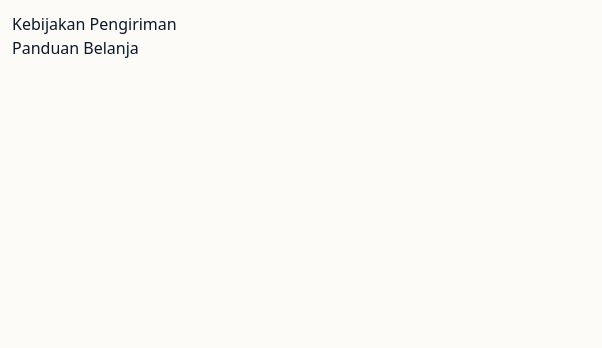
Test: clicking a footer menu opens the CMS page and renders its HTML
Click the link to "/pages/panduan-belanja" at coordinates (75, 48), box [12,37,139,59]
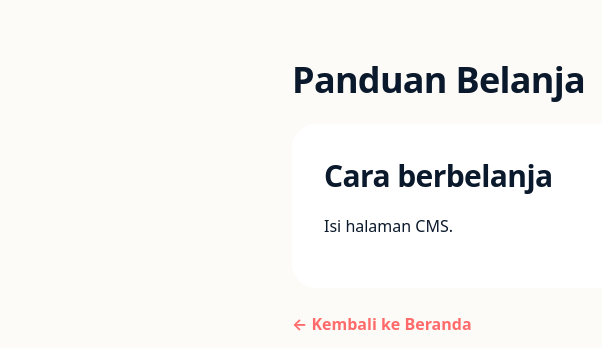
Expected: the heading with test id "page-title" reads "Panduan Belanja", [292,55,585,104]
Now the heading "Cara berbelanja" is shown, box [324,155,552,196]
